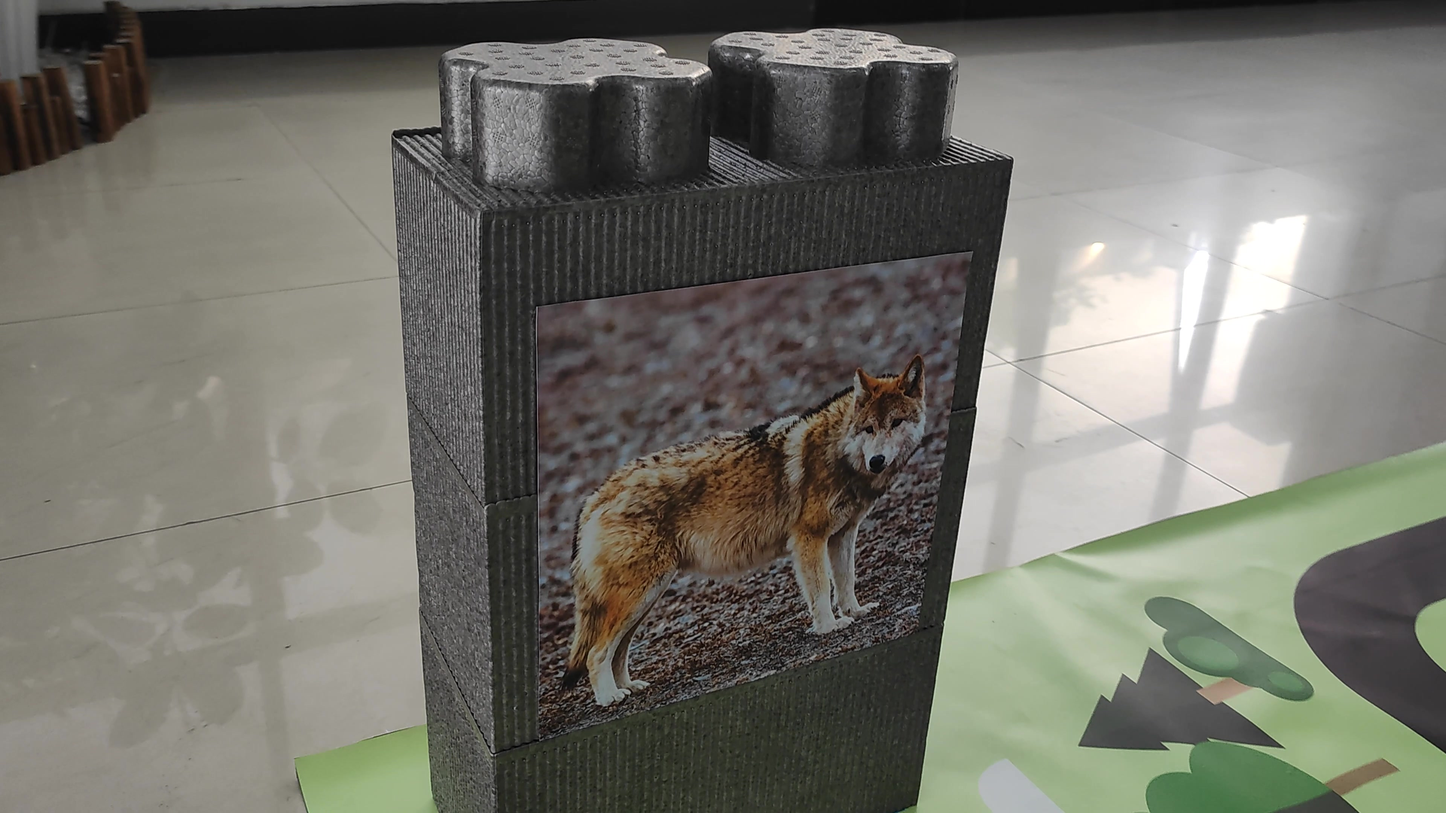wolf: (547, 340, 917, 705)
